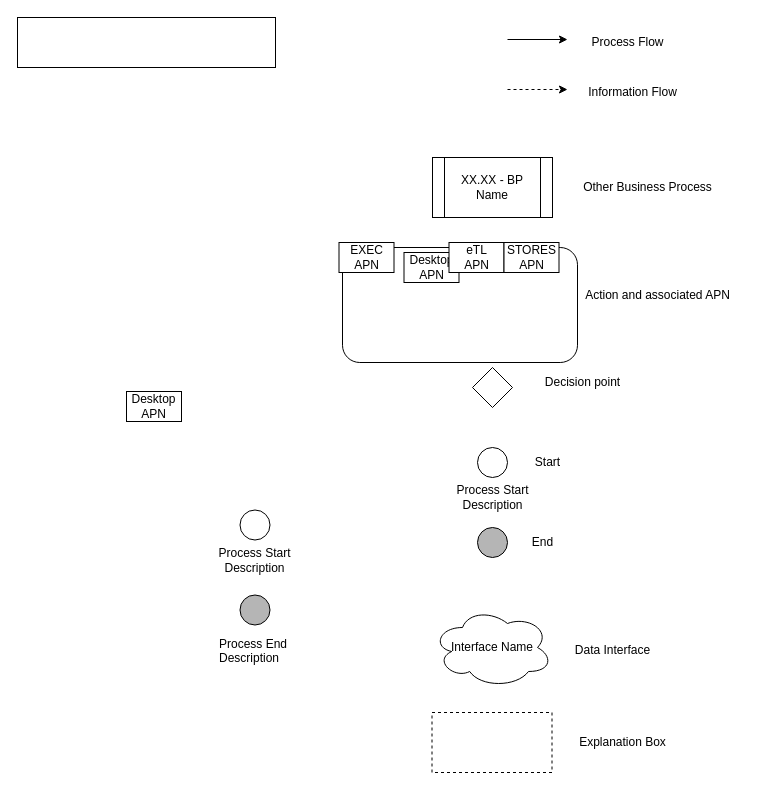
Image size: 760x790. Some labels were removed from this diagram. The box of each missing label's shape, as (x1, y1, x2, y2) in pixels:
Action to be performed: (342, 246, 578, 362)
Note:: (431, 712, 552, 772)
xx.yy Process Name: (16, 16, 276, 68)
